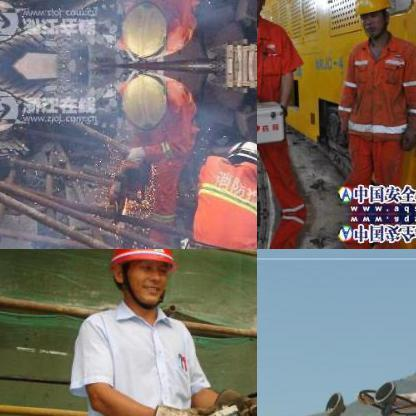Helmet: (94, 249, 186, 314), (120, 0, 174, 54), (121, 75, 174, 129), (354, 0, 397, 39), (223, 138, 256, 181)
